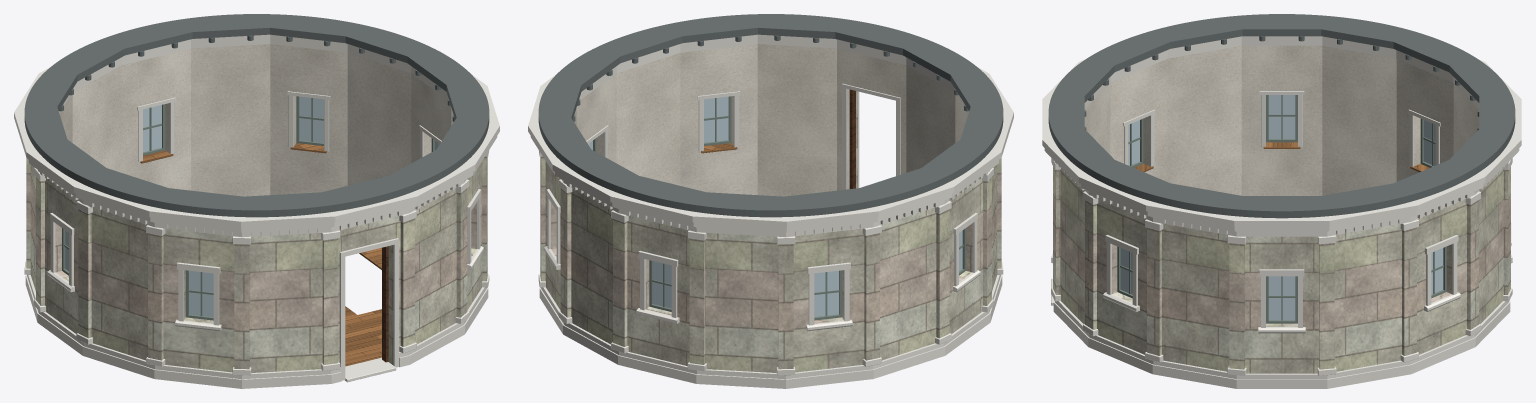
The model's file is drum_main.glb.
3 views of the same model, side by side, from view 1: azimuth 30°, elevation 25°; view 2: azimuth 150°, elevation 25°; view 3: azimuth 270°, elevation 25° (orthographic).
Visible parts, largest first — view 1: drum_main_stone, drum_main_plaster, drum_main_trim, drum_main_iron, drum_main_glass, drum_main_oak, drum_main_frame, drum_main_dkwood; view 2: drum_main_stone, drum_main_plaster, drum_main_trim, drum_main_iron, drum_main_glass, drum_main_frame, drum_main_dkwood; view 3: drum_main_stone, drum_main_plaster, drum_main_trim, drum_main_iron, drum_main_glass, drum_main_frame, drum_main_oak.
Part boxes in pixels (x1,y1,x2,y2): drum_main_stone: (26,156,487,372); drum_main_plaster: (59,44,453,196); drum_main_trim: (14,34,499,388); drum_main_iron: (24,14,489,217); drum_main_glass: (65,96,438,317); drum_main_oak: (140,143,381,366); drum_main_frame: (62,96,434,320); drum_main_dkwood: (382,246,388,362); drum_main_stone: (540,91,1001,372); drum_main_plaster: (574,44,968,196); drum_main_trim: (528,34,1013,388); drum_main_iron: (538,14,1003,217); drum_main_glass: (589,96,962,317); drum_main_frame: (593,96,965,320); drum_main_dkwood: (849,89,855,188); drum_main_stone: (1053,166,1510,373); drum_main_plaster: (1084,45,1479,195); drum_main_trim: (1042,36,1521,388); drum_main_iron: (1048,14,1515,218); drum_main_glass: (1120,95,1443,320); drum_main_frame: (1117,95,1446,323); drum_main_oak: (1134,142,1429,172).
Bounding box in the file's own units: 7.54 × 3.14 × 7.54.
Materials: 9 (4 with a texture image).
